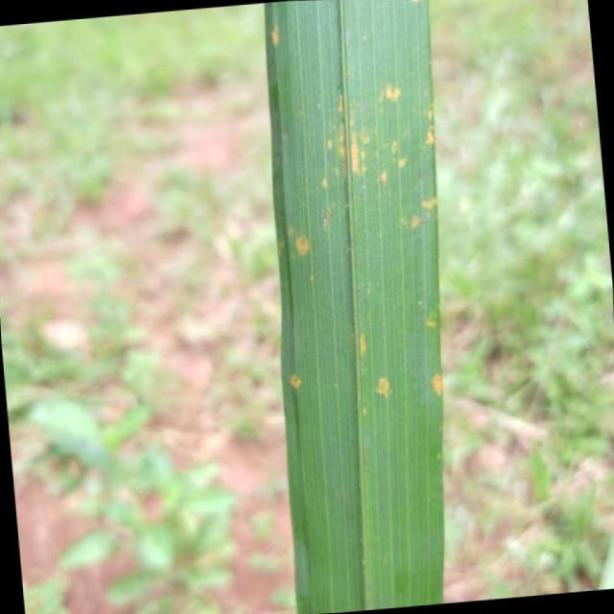Kalium: (265, 0, 448, 614)
